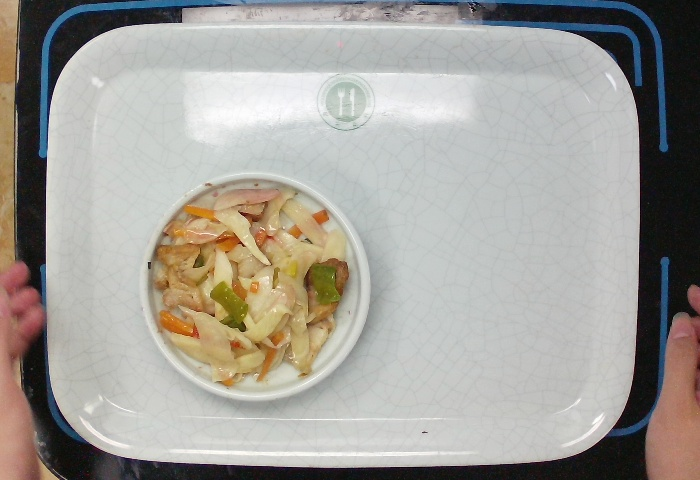JYsf-Xiao_Yuan_Pan: (137, 167, 378, 406)
